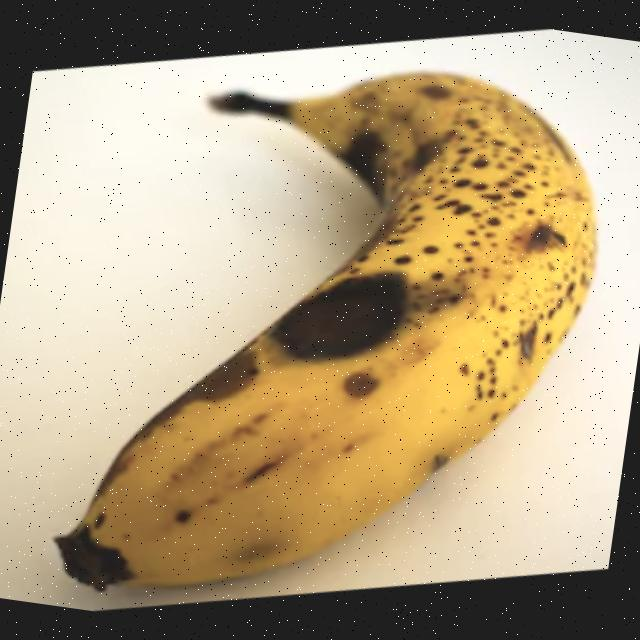overripe: (46, 31, 625, 640)
